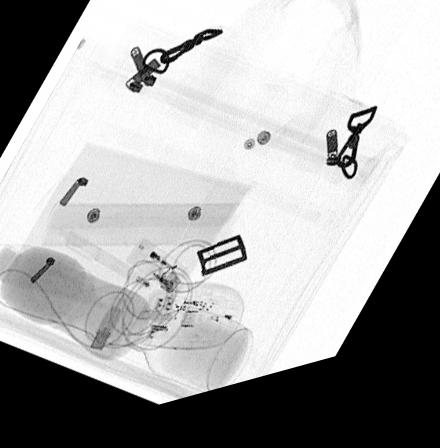Lighter: (125, 244, 190, 303)
